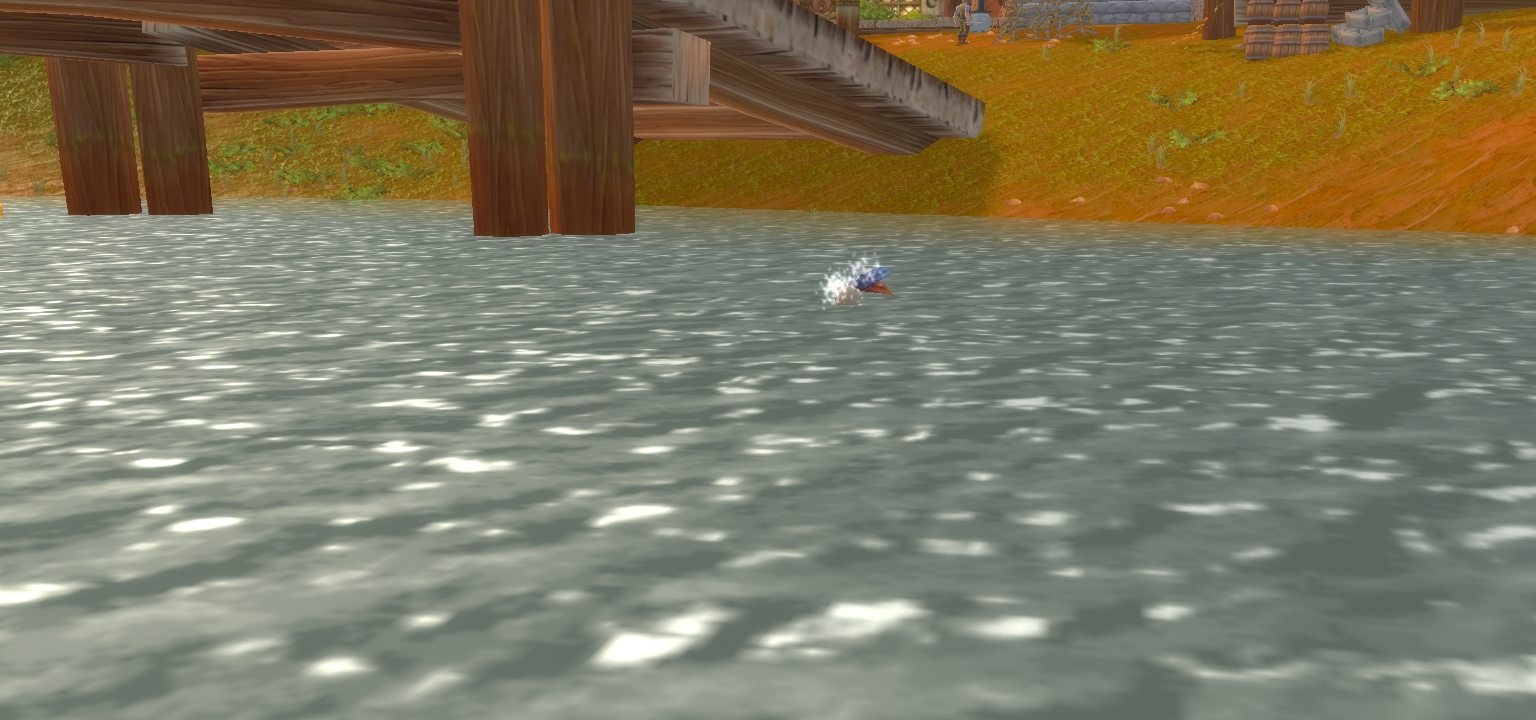Splash: (831, 263, 900, 303)
